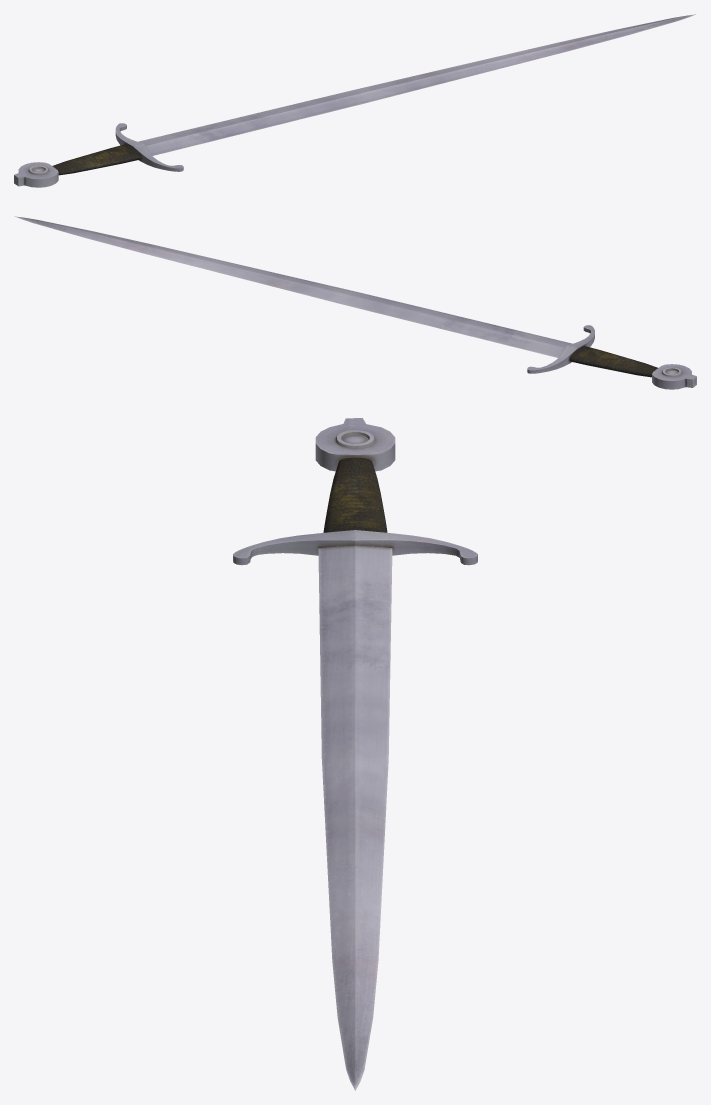
Rendered from sword.glb.
3 views of the same model, one above another, from view 1: azimuth 30°, elevation 25°; view 2: azimuth 150°, elevation 25°; view 3: azimuth 270°, elevation 25° (orthographic). The views are drawn at different scales.
Parts seen in each view (by area): view 1: ArmingSword_LP; view 2: ArmingSword_LP; view 3: ArmingSword_LP.
Part boxes in pixels (x1,y1,x2,y2): ArmingSword_LP: (14,14,695,187); ArmingSword_LP: (14,216,696,389); ArmingSword_LP: (233,418,477,1090).
Size of the model in its own units: 99.06 by 1.52 by 15.44.
1 material, 1 textured.
